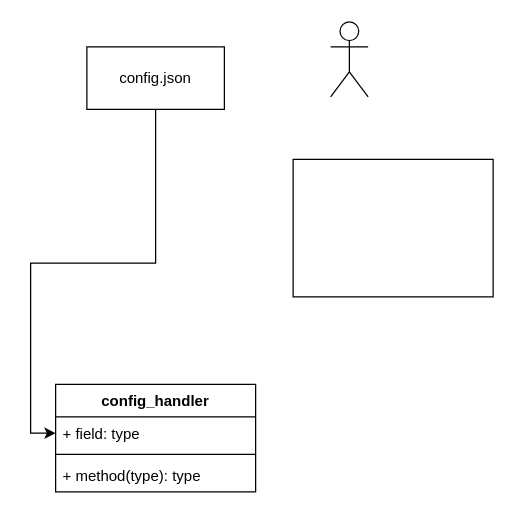
Some shapes in this 515 by 518 pixel diagram are drawn without their labels. The shapes that lost their labels are listed below. From the top down, each one's box as (x1, y1, x2, y2) in pixels, then its label:
(329, 21, 368, 97): Actor
(292, 158, 493, 297): config.json domain_name parser whitelist redlist
